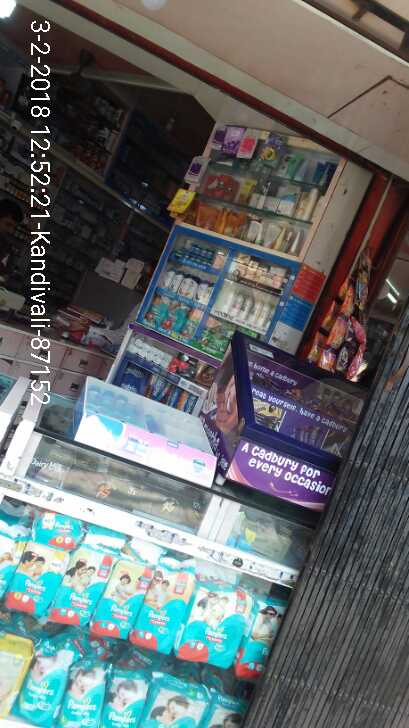vicks: (182, 243, 216, 266)
